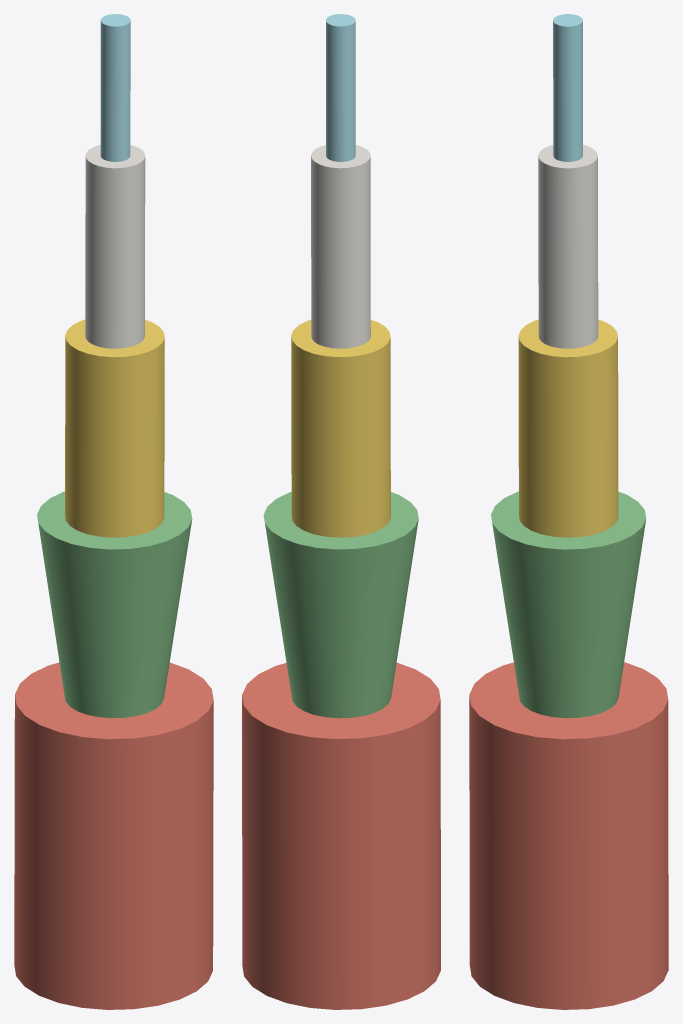
The model's file is FibraOptica.glb.
3 views of the same model, side by side, from view 1: azimuth 30°, elevation 25°; view 2: azimuth 150°, elevation 25°; view 3: azimuth 270°, elevation 25° (orthographic).
Visible parts, largest first — view 1: Fibra Óptica; view 2: Fibra Óptica; view 3: Fibra Óptica.
Boxes of the visible parts, x1=… form: Fibra Óptica: x1=14, y1=14, x2=213, y2=1009; Fibra Óptica: x1=242, y1=14, x2=440, y2=1009; Fibra Óptica: x1=469, y1=14, x2=668, y2=1009.
Bounding box in the file's own units: 20.01 × 105 × 20.
